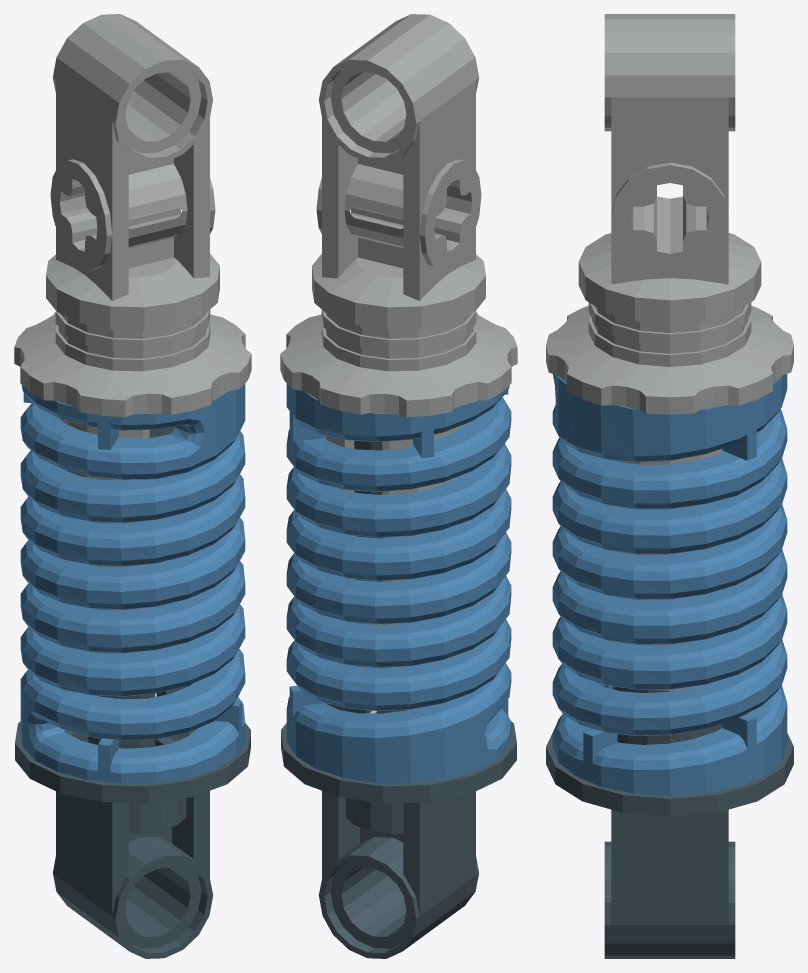
The picture shows the model from 3 angles, left to right: view 1: azimuth 30°, elevation 25°; view 2: azimuth 150°, elevation 25°; view 3: azimuth 270°, elevation 25°; orthographic projection. The views are drawn at different scales.
Parts seen in each view (by area): view 1: world; view 2: world; view 3: world.
Boxes of the visible parts, <box> form: world: <box>14,14,251,958</box>; world: <box>280,14,517,958</box>; world: <box>546,14,793,958</box>.
Bounding box in the file's own units: 0.0152 × 0.0632 × 0.0152.
